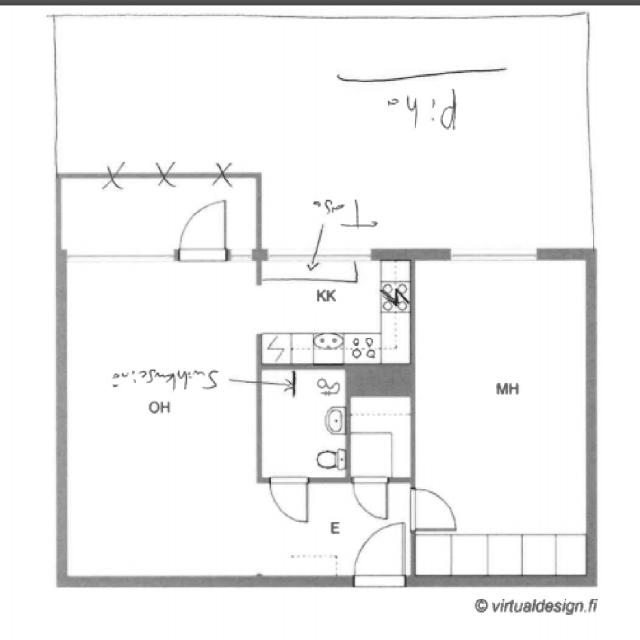door: (349, 520, 410, 587), (176, 198, 230, 266), (408, 482, 463, 534), (269, 475, 311, 525), (351, 475, 391, 522)
window: (63, 245, 180, 268), (448, 246, 543, 266), (261, 241, 316, 275), (51, 174, 66, 252)
zone: (60, 250, 260, 582), (410, 252, 594, 578), (253, 255, 409, 365), (257, 366, 350, 482), (347, 394, 414, 482)
